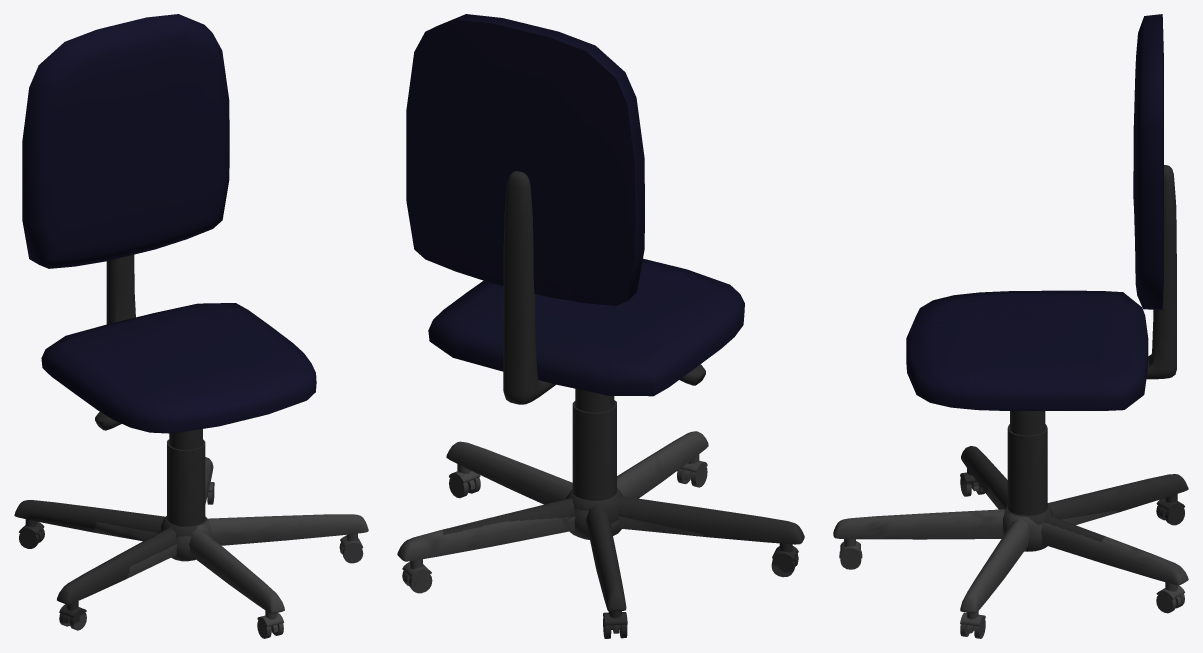
The model's file is CadeiraDeEscritorio.fbx.
The picture shows the model from 3 angles, left to right: view 1: azimuth 30°, elevation 25°; view 2: azimuth 150°, elevation 25°; view 3: azimuth 270°, elevation 25°; orthographic projection. The views are drawn at different scales.
Visible parts, largest first — view 1: Cadeira.Escritorio; view 2: Cadeira.Escritorio; view 3: Cadeira.Escritorio.
Part boxes in pixels (x1,y1,x2,y2): Cadeira.Escritorio: (14, 14, 368, 638); Cadeira.Escritorio: (397, 14, 804, 638); Cadeira.Escritorio: (833, 14, 1188, 638).
Size of the model in its own units: 71.16 by 111 by 67.8.
